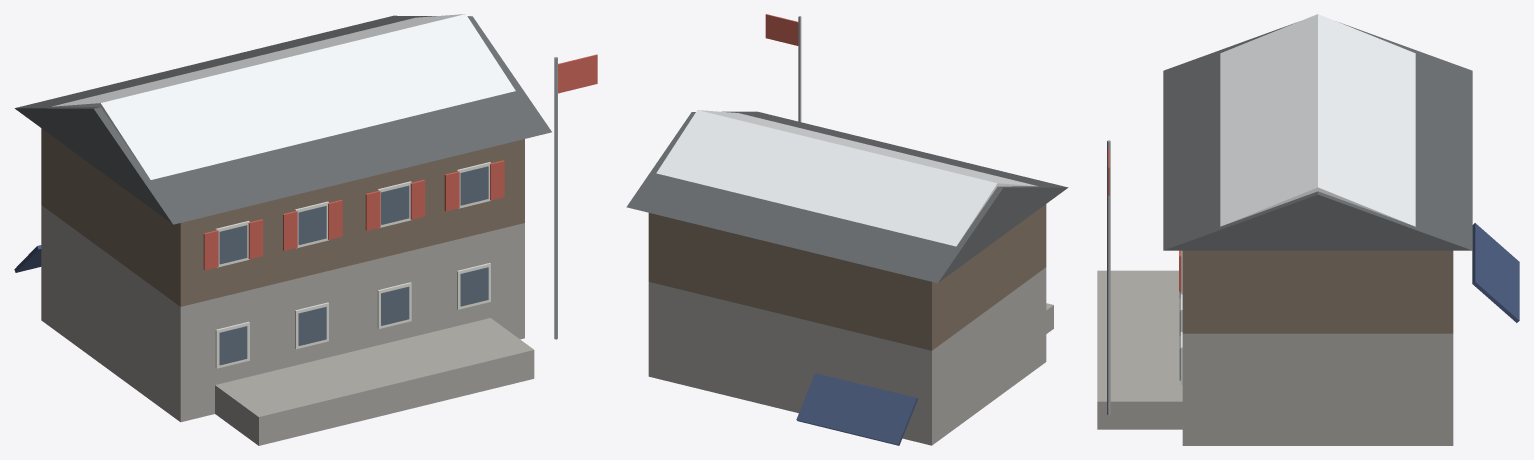
Rendered from MountainHut.glb.
3 renders of one model, left to right at view 1: azimuth 30°, elevation 25°; view 2: azimuth 150°, elevation 25°; view 3: azimuth 270°, elevation 25°, orthographic. The views are drawn at different scales.
Parts seen in each view (by area): view 1: Stone storey, Hut roof snow, Timber storey, Hut roof, Terrace, Flag, Limb.128, Window.044, Window.049, Window.045, Window.046, Window.047 (+11 smaller); view 2: Stone storey, Timber storey, Hut roof snow, Hut roof, Solar panels, Flag; view 3: Hut roof snow, Hut roof, Stone storey, Timber storey, Terrace, Solar panels, Limb.128.
Part boxes in pixels (x1,y1,x2,y2): Stone storey: (41, 205, 524, 422); Hut roof snow: (52, 14, 515, 179); Timber storey: (41, 128, 524, 306); Hut roof: (14, 15, 551, 224); Terrace: (215, 318, 534, 445); Flag: (558, 54, 597, 93); Limb.128: (554, 57, 557, 339); Window.044: (298, 306, 326, 345); Window.049: (460, 166, 488, 205); Window.045: (298, 206, 326, 244); Window.046: (381, 286, 409, 325); Window.047: (381, 185, 409, 224); Stone storey: (648, 267, 1046, 445); Timber storey: (648, 204, 1046, 350); Hut roof snow: (656, 110, 1037, 246); Hut roof: (626, 111, 1068, 283); Solar panels: (796, 373, 917, 445); Flag: (765, 14, 798, 45); Hut roof snow: (1220, 14, 1415, 226); Hut roof: (1163, 22, 1472, 250); Stone storey: (1182, 333, 1453, 445); Timber storey: (1182, 250, 1453, 333); Terrace: (1097, 270, 1182, 429); Solar panels: (1472, 223, 1519, 322); Limb.128: (1107, 140, 1110, 415).
Bounding box in the file's own units: 11.5 × 8.6 × 10.91.
